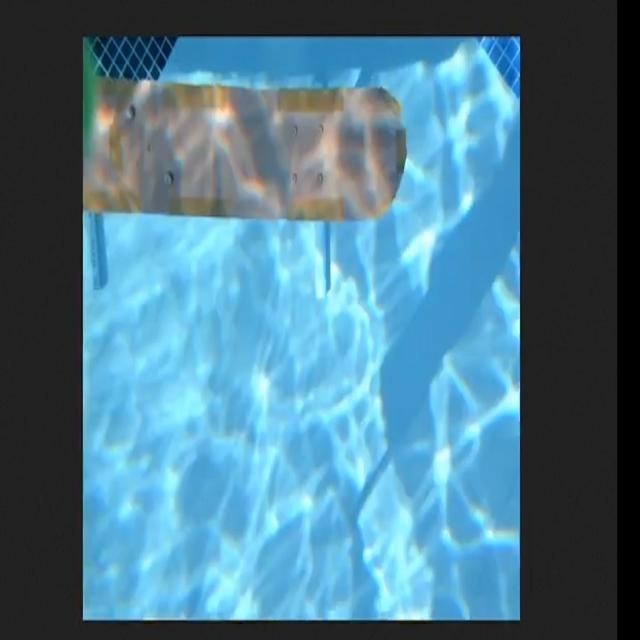Path: (84, 70, 409, 230)
